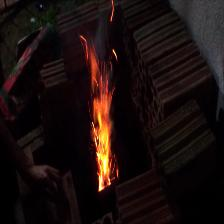fire: (80, 35, 119, 192)
